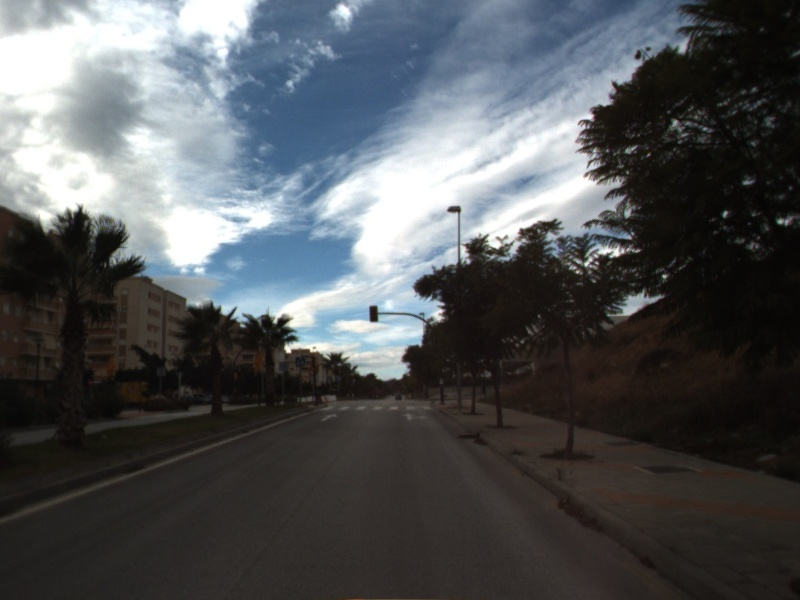STRAIGHT: (319, 411, 340, 423)
STRAIGHT_RIGHT: (399, 411, 430, 422)
